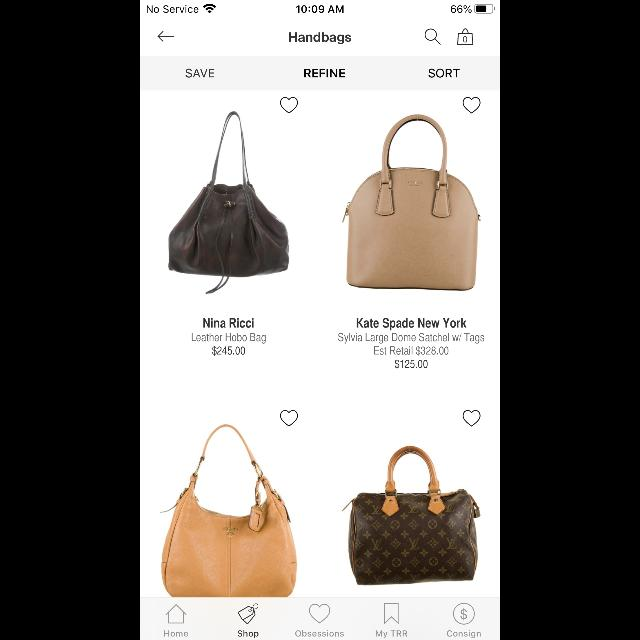icon: (454, 604, 474, 624), (238, 604, 258, 624), (166, 604, 187, 622), (310, 604, 330, 622), (384, 602, 398, 624), (280, 410, 298, 426), (280, 97, 298, 113), (464, 410, 481, 426), (464, 97, 481, 113), (425, 29, 441, 45), (158, 31, 174, 41)
image: (342, 114, 480, 294), (159, 425, 297, 597), (168, 112, 290, 294), (342, 446, 480, 586)
text: (338, 334, 484, 356), (357, 318, 467, 328), (289, 32, 351, 44), (192, 333, 266, 343), (203, 318, 253, 328), (212, 346, 245, 356), (304, 69, 344, 77), (428, 68, 459, 78), (394, 359, 428, 368), (296, 630, 344, 636), (186, 68, 214, 78), (447, 630, 481, 638), (457, 28, 473, 44), (376, 630, 406, 638), (238, 630, 258, 638), (164, 630, 188, 636)
uppertaskbar: (140, 0, 500, 14)
